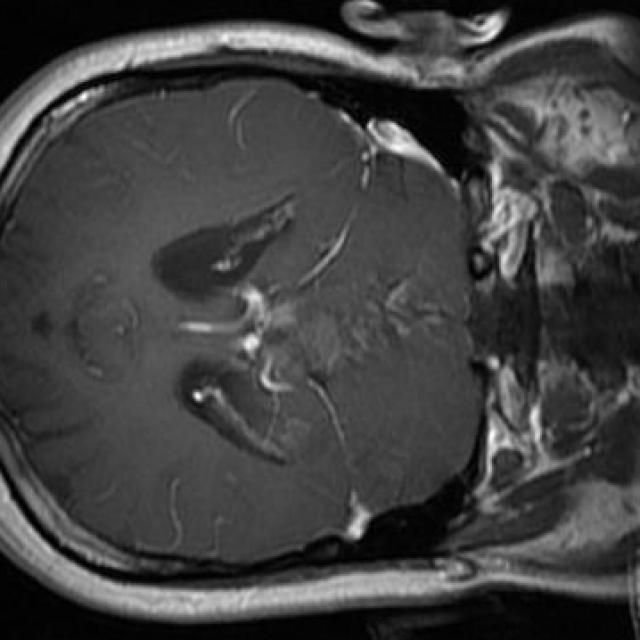glioma: (232, 282, 442, 394)
